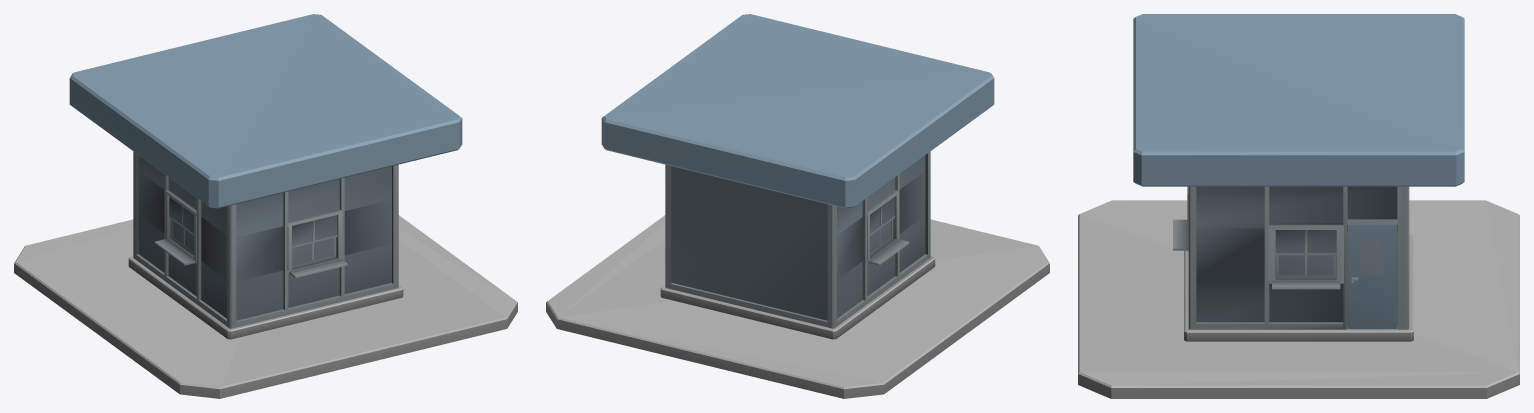
File: gatehouse.glb
3 views of the same model, side by side, from view 1: azimuth 30°, elevation 25°; view 2: azimuth 150°, elevation 25°; view 3: azimuth 270°, elevation 25° (orthographic). The views are drawn at different scales.
Parts seen in each view (by area): view 1: gatehouse.001; view 2: gatehouse.001; view 3: gatehouse.001.
Boxes of the visible parts, bbox=[...] form: gatehouse.001: bbox=[14, 14, 517, 398]; gatehouse.001: bbox=[546, 14, 1049, 398]; gatehouse.001: bbox=[1078, 14, 1519, 398].
Bounding box in the file's own units: 8 × 4.45 × 8.
